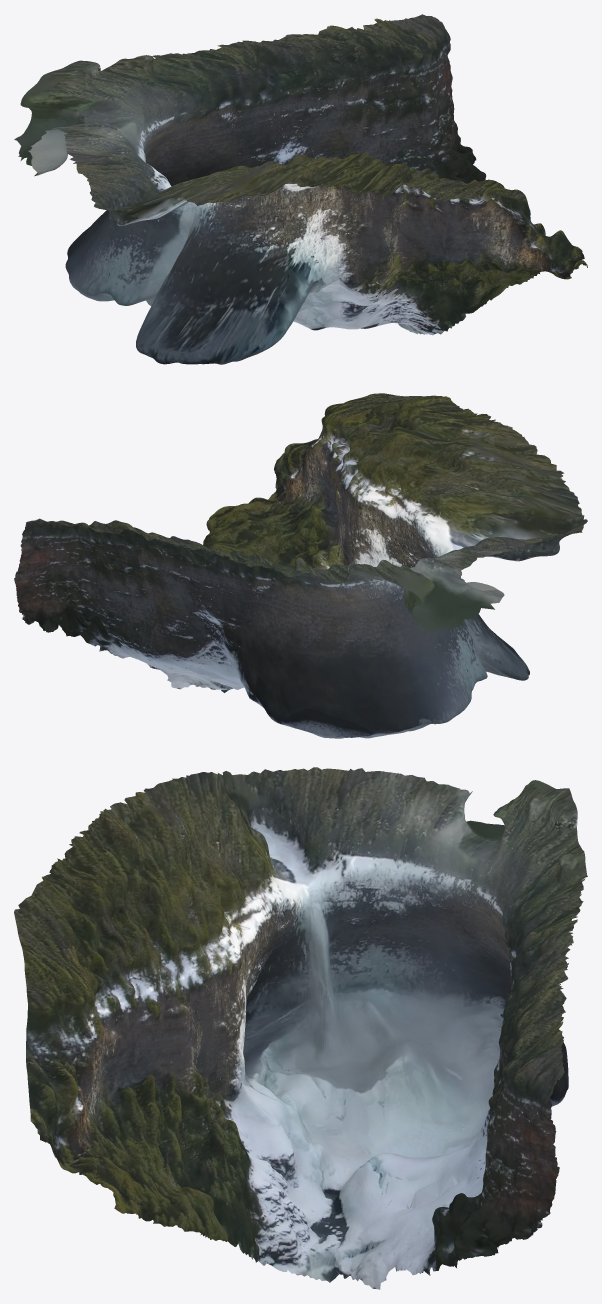
The model's file is sf-helmcken-falls-in-winter-canada-3d-scan-daaf65.glb.
The picture shows the model from 3 angles, top to bottom: view 1: azimuth 30°, elevation 25°; view 2: azimuth 150°, elevation 25°; view 3: azimuth 270°, elevation 25°; orthographic projection. The views are drawn at different scales.
Visible parts, largest first — view 1: Model_material0_0; view 2: Model_material0_0; view 3: Model_material0_0.
Part boxes in pixels (x1,y1,x2,y2): Model_material0_0: (14, 14, 587, 364); Model_material0_0: (14, 393, 587, 738); Model_material0_0: (14, 767, 587, 1289).
Size of the model in its own units: 101 by 53.82 by 82.24.
1 material, 1 textured.
